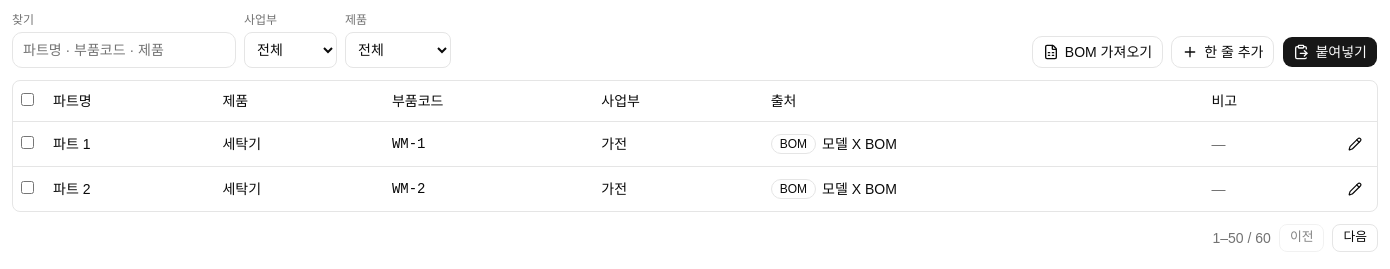
it: 적용 부품 탭 › 찾는 글자를 바꾸면 첫 쪽부터 서버에 묻는다
This screenshot has width=1390, height=269.
Expected: the text "1–50 / 60" is shown, [1212,228,1271,248]
Click the button "다음": (1355, 238) [1332,224,1378,252]
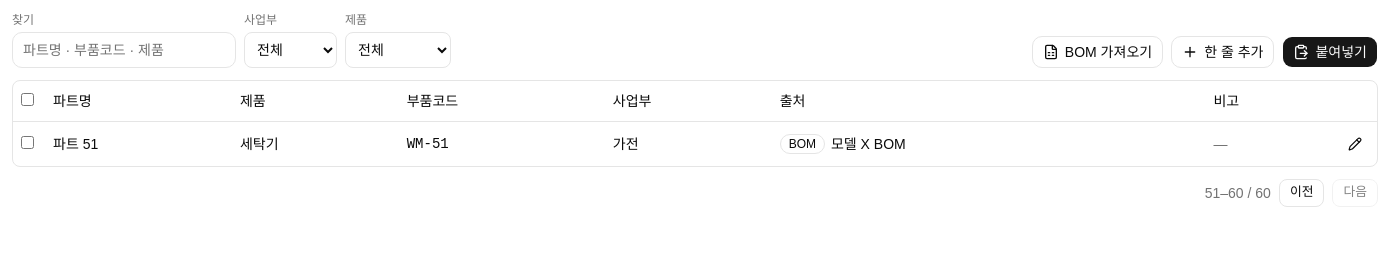
Result: the text "WM-51" is shown at [399,121,605,166]
In the field labelled "찾기": (124, 50) [12,32,236,68], type "WM-7"
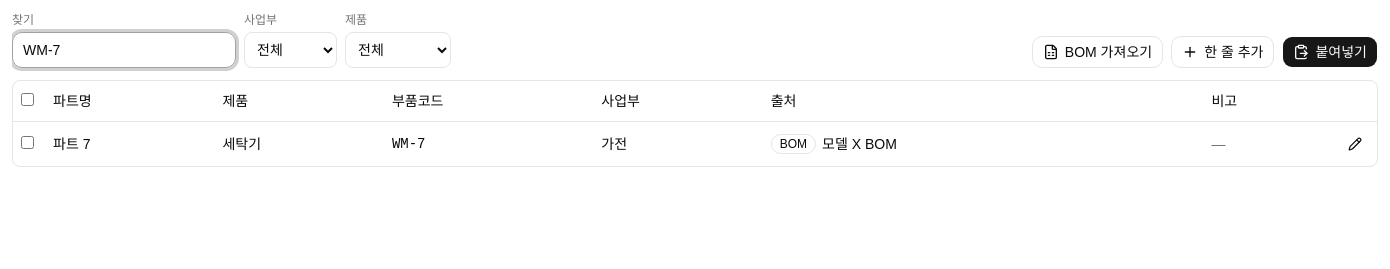
Result: the text "WM-7" is shown at [384,121,593,166]
